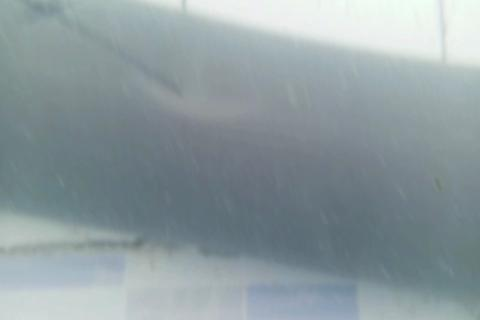keretakan: (22, 0, 186, 100)
